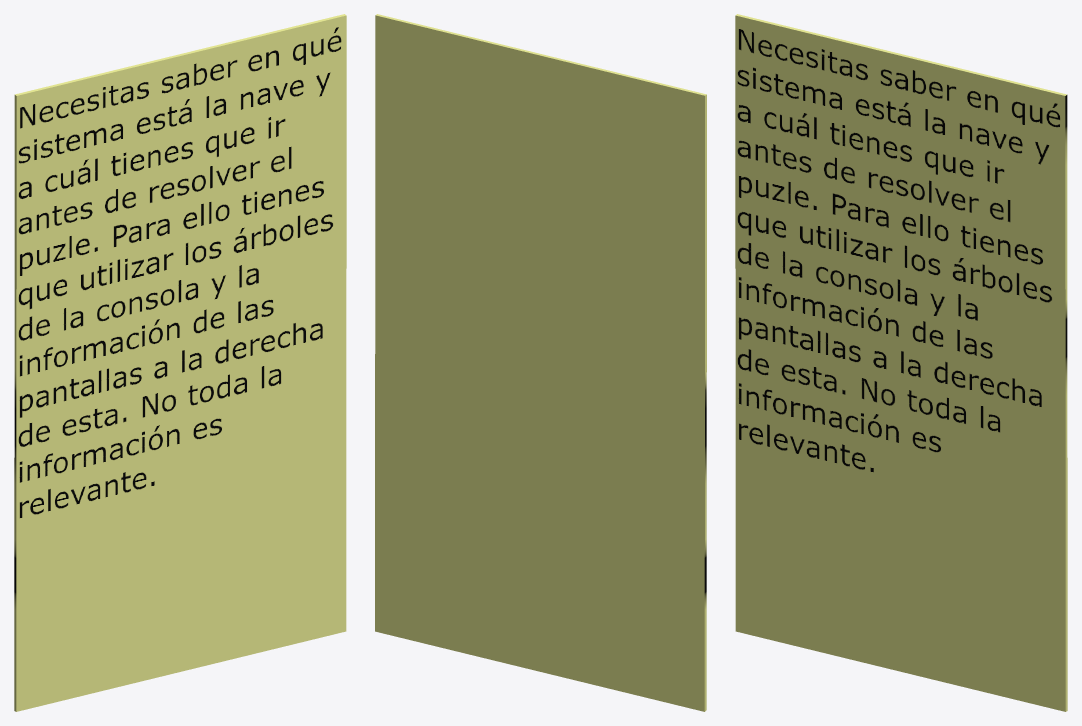
Rendered from Pista4.fbx.
The picture shows the model from 3 angles, left to right: view 1: azimuth 30°, elevation 25°; view 2: azimuth 150°, elevation 25°; view 3: azimuth 330°, elevation 25°; orthographic projection.
Parts seen in each view (by area): view 1: Cylinder; view 2: Cylinder; view 3: Cylinder.
Boxes of the visible parts, box(x1,y1,x2,y2) form: Cylinder: box(14, 14, 346, 711); Cylinder: box(375, 14, 706, 711); Cylinder: box(735, 14, 1067, 711).
Size of the model in its own units: 9 by 16.07 by 0.1023.
1 material, 1 textured.
